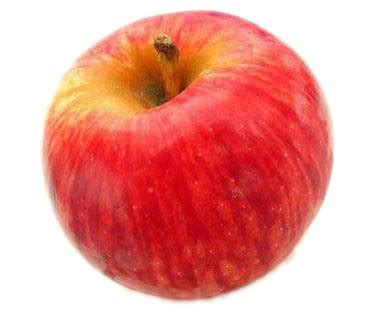apple: (35, 10, 337, 303)
